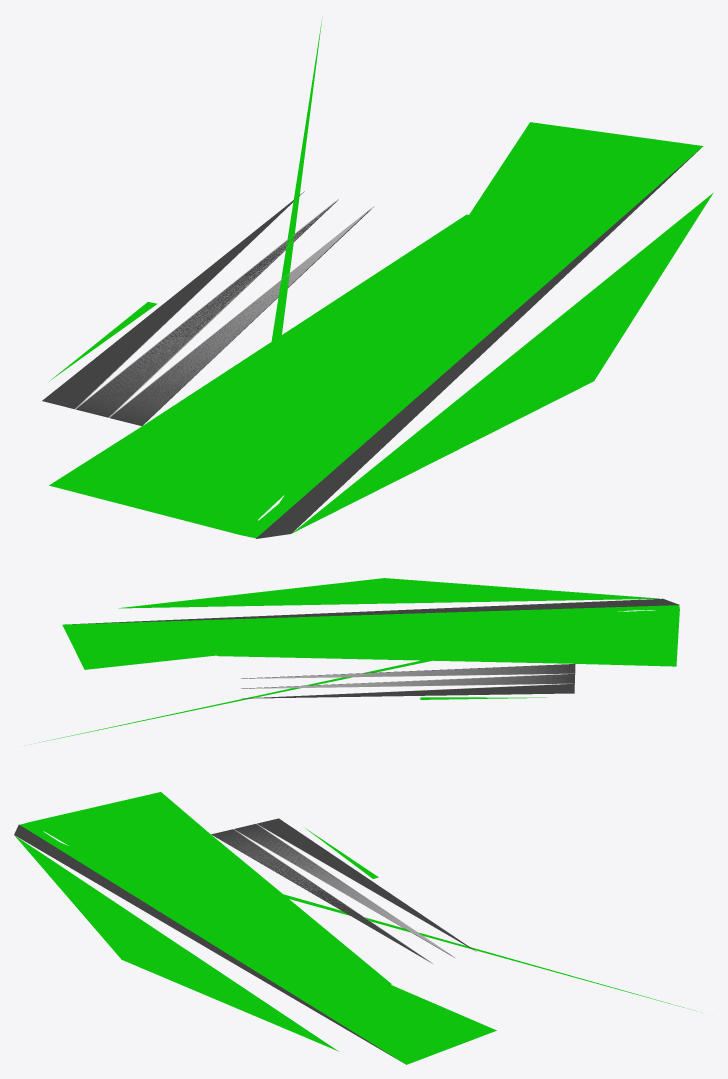
3 renders of one model, top to bottom at view 1: azimuth 30°, elevation 25°; view 2: azimuth 150°, elevation 25°; view 3: azimuth 270°, elevation 25°, orthographic. The views are drawn at different scales.
Size of the model in its own units: 93.9 by 0.001 by 96.17.
